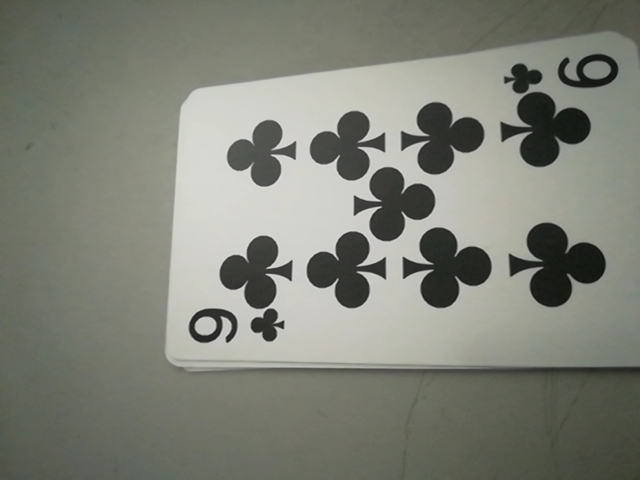mh 9: (185, 302, 290, 361), (502, 48, 622, 98)
